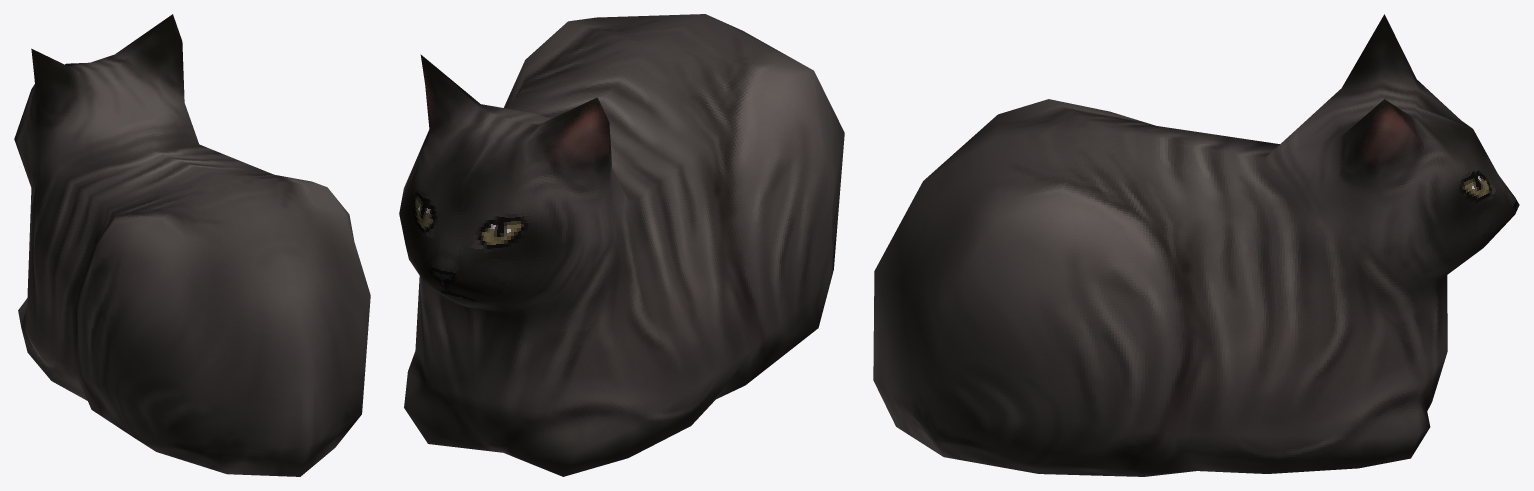
File: CatLoafNaked256.glb
3 views of the same model, side by side, from view 1: azimuth 30°, elevation 25°; view 2: azimuth 150°, elevation 25°; view 3: azimuth 270°, elevation 25° (orthographic). The views are drawn at different scales.
Parts seen in each view (by area): view 1: CatLoafNaked256; view 2: CatLoafNaked256; view 3: CatLoafNaked256.
Part boxes in pixels (<box>): CatLoafNaked256: <box>14,14,370,476</box>; CatLoafNaked256: <box>399,14,844,476</box>; CatLoafNaked256: <box>873,14,1519,476</box>.
Size of the model in its own units: 0.2077 by 0.2561 by 0.3957.
1 material, 1 textured.
